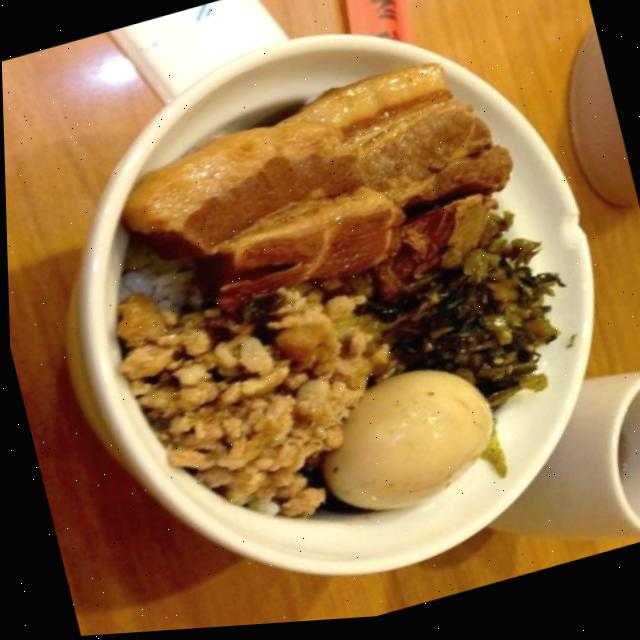猪肉菜式: (26, 1, 633, 622)
